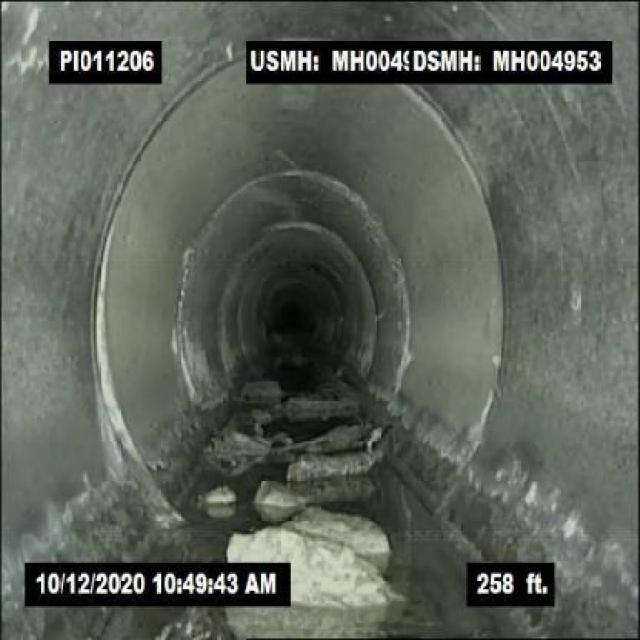Joint offset: (91, 329, 166, 529)
Obstacle: (223, 504, 402, 608), (283, 431, 392, 483)
